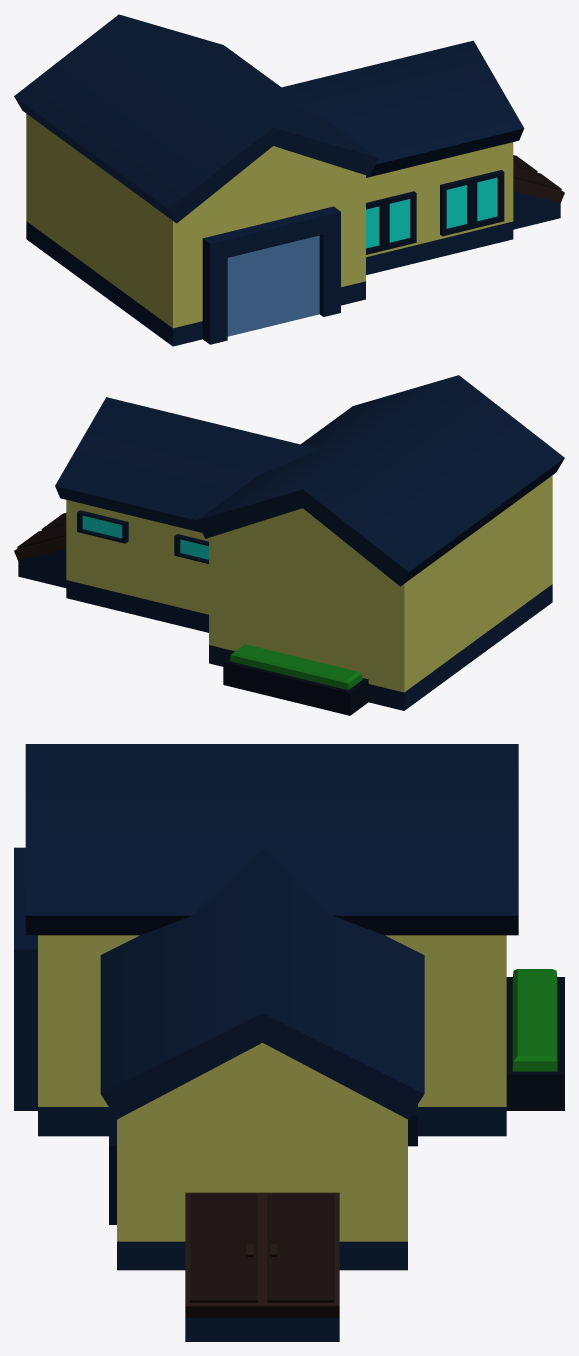
File: House_4.fbx
3 views of the same model, one above another, from view 1: azimuth 30°, elevation 25°; view 2: azimuth 150°, elevation 25°; view 3: azimuth 270°, elevation 25° (orthographic). The views are drawn at different scales.
Visible parts, largest first — view 1: House_4; view 2: House_4; view 3: House_4.
Part boxes in pixels (box(x1,y1,x2,y2)): House_4: box(14, 14, 564, 346); House_4: box(14, 375, 564, 715); House_4: box(14, 744, 564, 1341).
Size of the model in its own units: 68.16 by 30.58 by 45.61.
